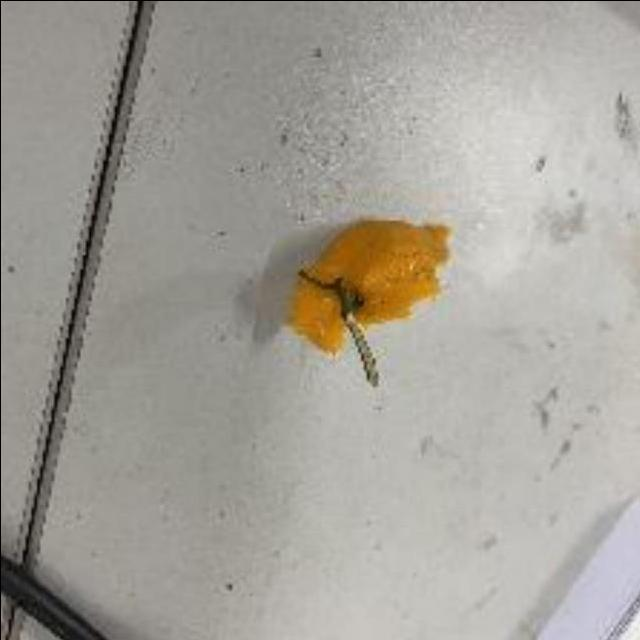orange peel: (287, 211, 452, 361)
